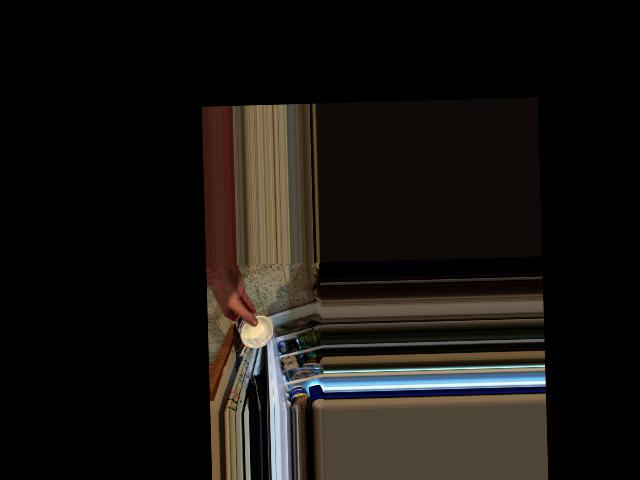cotage: (232, 311, 274, 351)
